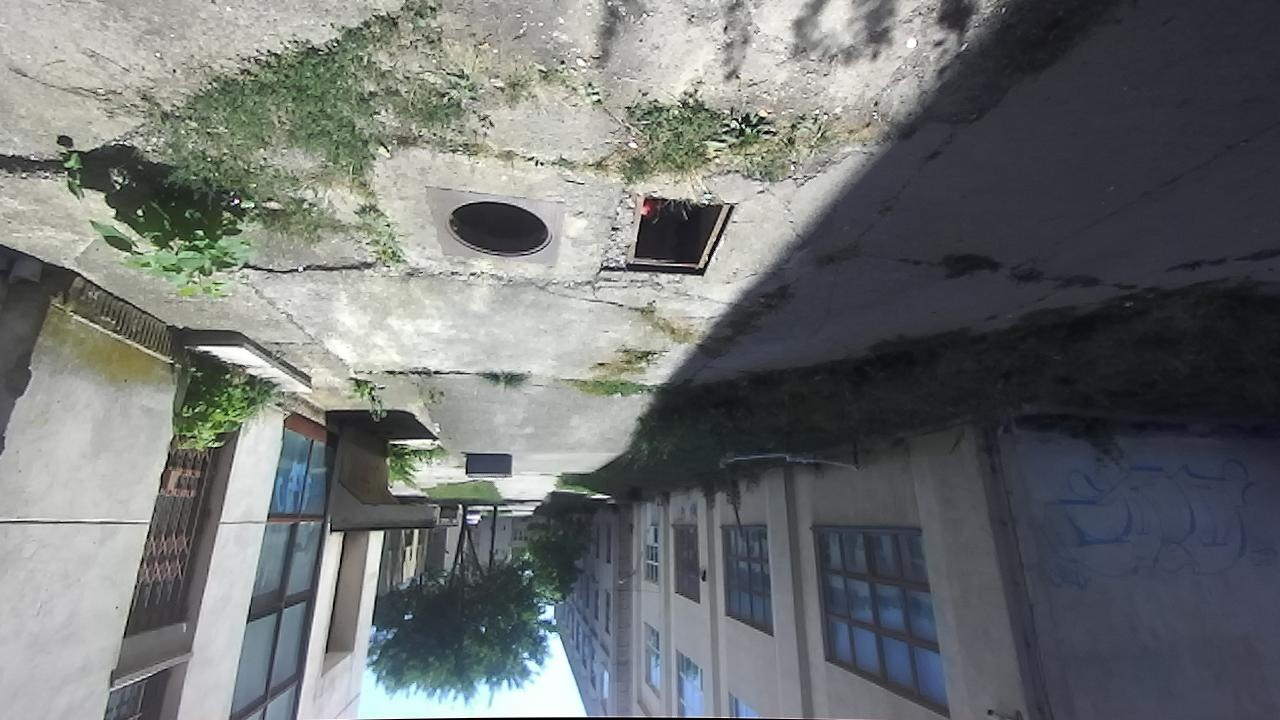drain: (622, 193, 741, 279), (440, 195, 564, 260)
